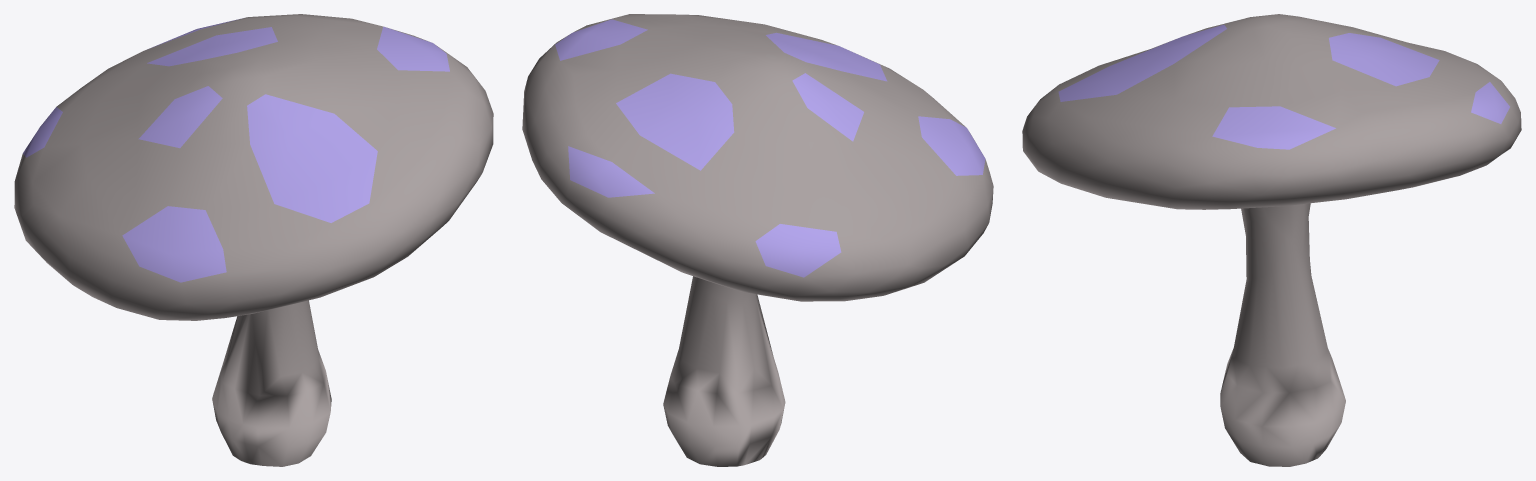
File: MAGIC_MUSHROOM.fbx
3 renders of one model, left to right at view 1: azimuth 30°, elevation 25°; view 2: azimuth 150°, elevation 25°; view 3: azimuth 270°, elevation 25°, orthographic. The views are drawn at different scales.
Parts seen in each view (by area): view 1: Shiitake_Mesh; view 2: Shiitake_Mesh; view 3: Shiitake_Mesh.
Part boxes in pixels (x1,y1,x2,y2): Shiitake_Mesh: (14,14,493,466); Shiitake_Mesh: (522,14,993,466); Shiitake_Mesh: (1022,14,1521,466).
Size of the model in its own units: 10.91 by 10.16 by 10.96.
